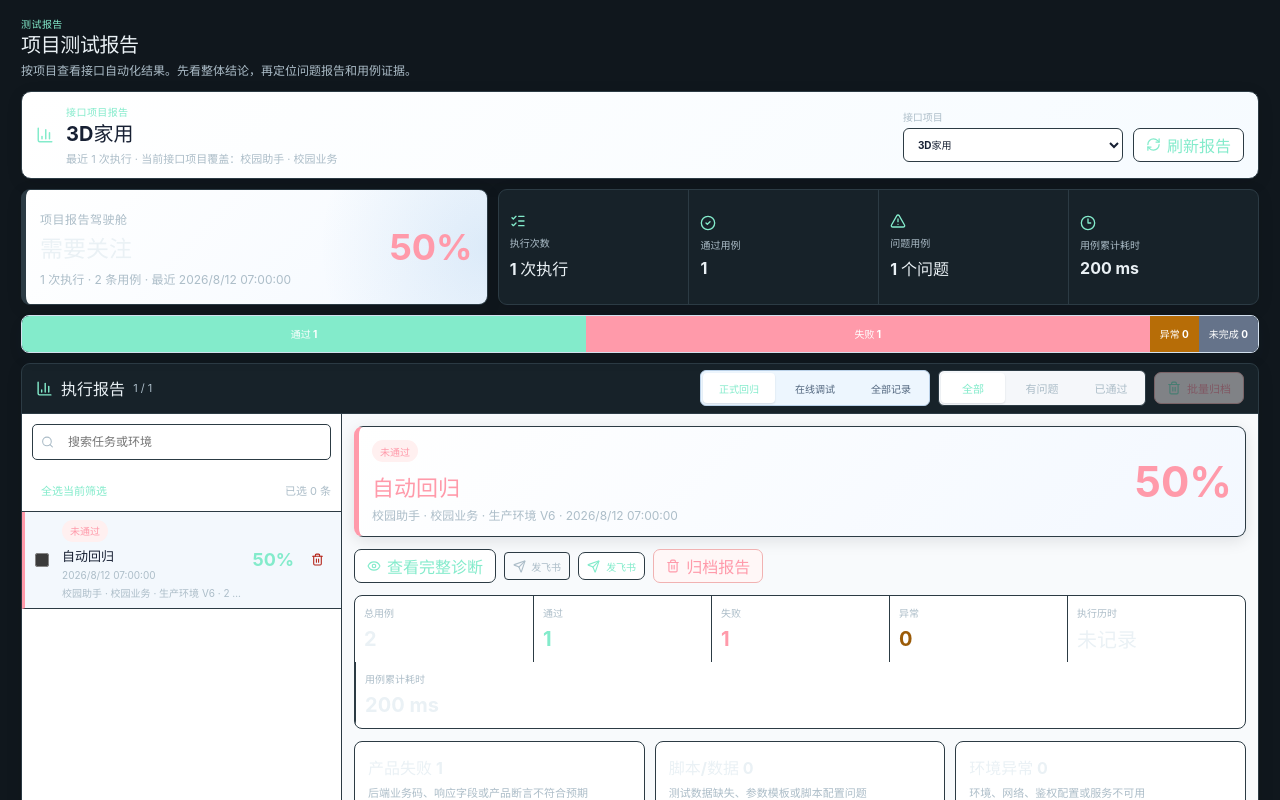
Test: ReportsView › loads and filters report results by the selected project
Select "商城项目" in the dropdown with test id "report-project-select" at (1013, 145), box [903, 128, 1123, 162]
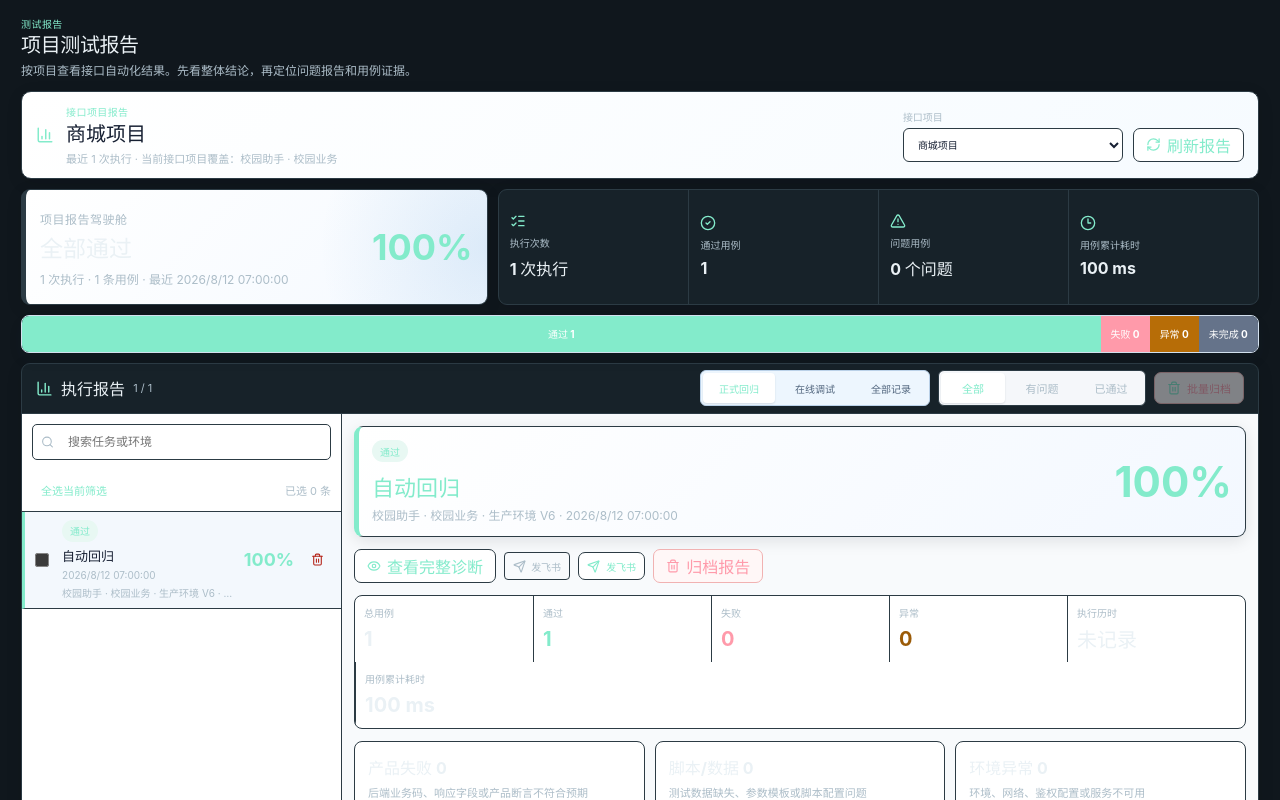
Check: the text "商城项目" is shown, box [66, 122, 146, 146]
